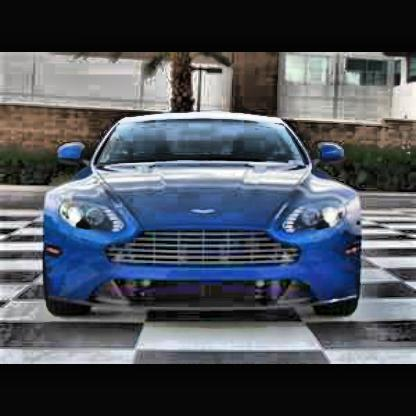Aston Martin V8 Vantage Coupe 2012: (40, 110, 368, 327)
